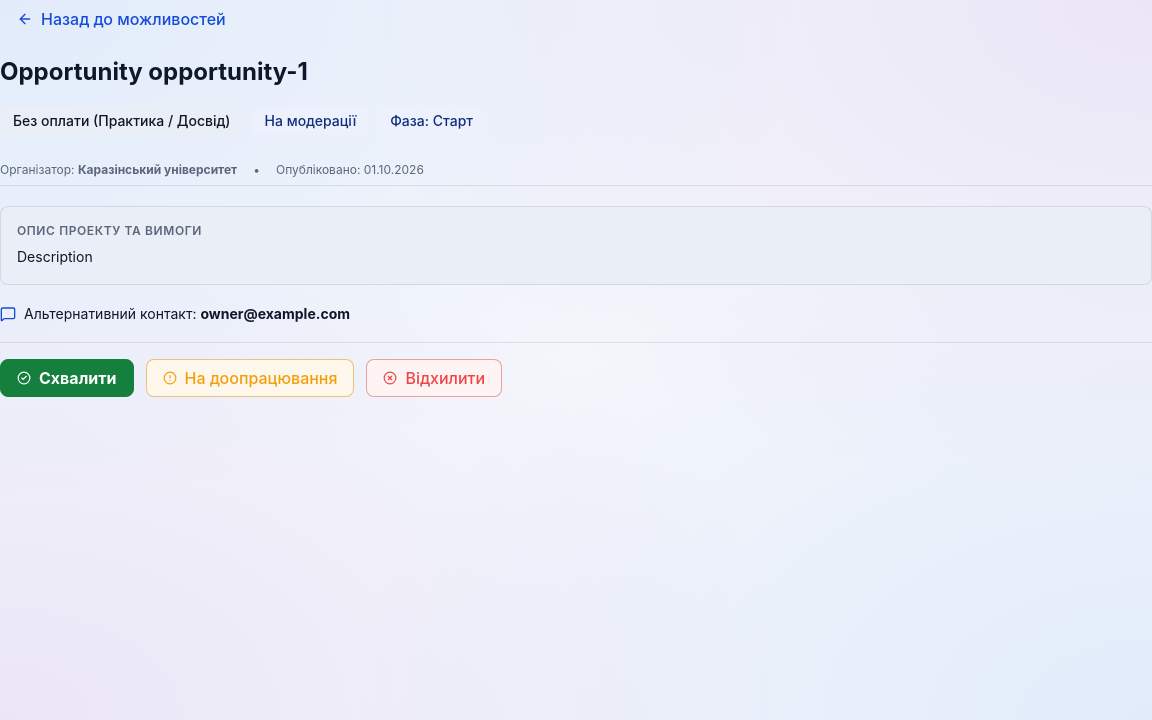
opportunity detail moderation › should submit REJECT with the moderator comment
This screenshot has width=1152, height=720.
Click the button "Відхилити".
click(434, 378)  # box [366,359,502,397]
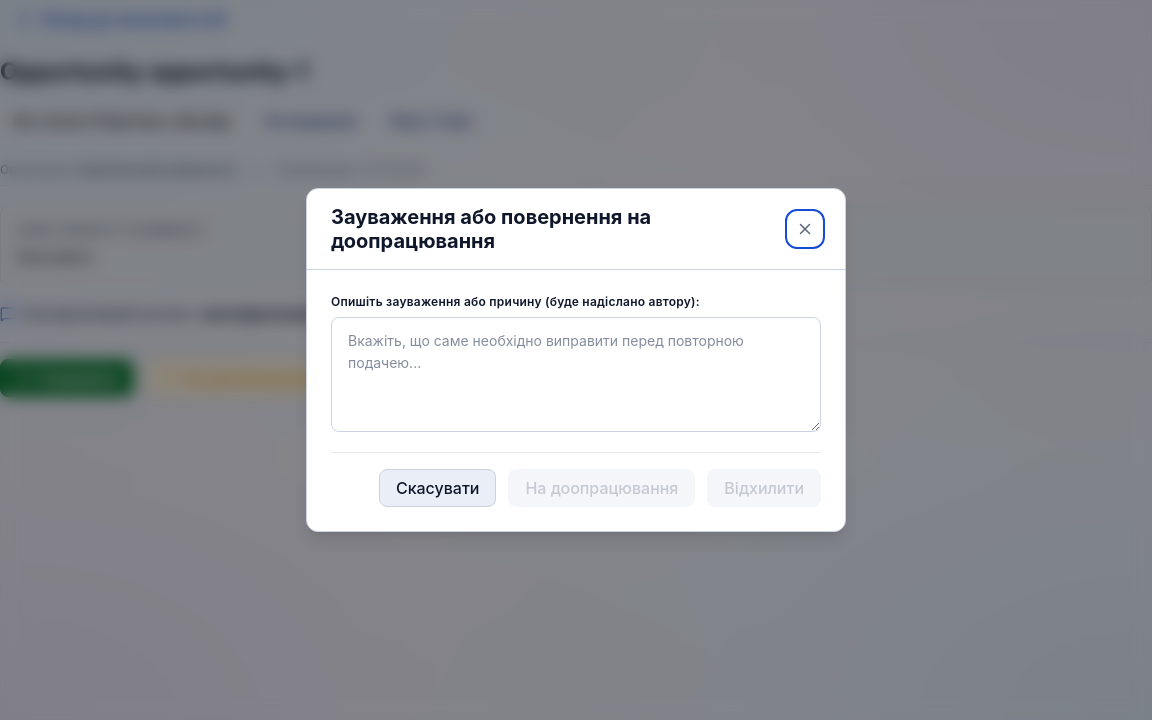
Type "Please clarify the requirements" into the text box.
click(576, 374); type("Please clarify the requirements")  # box [331,317,821,432]
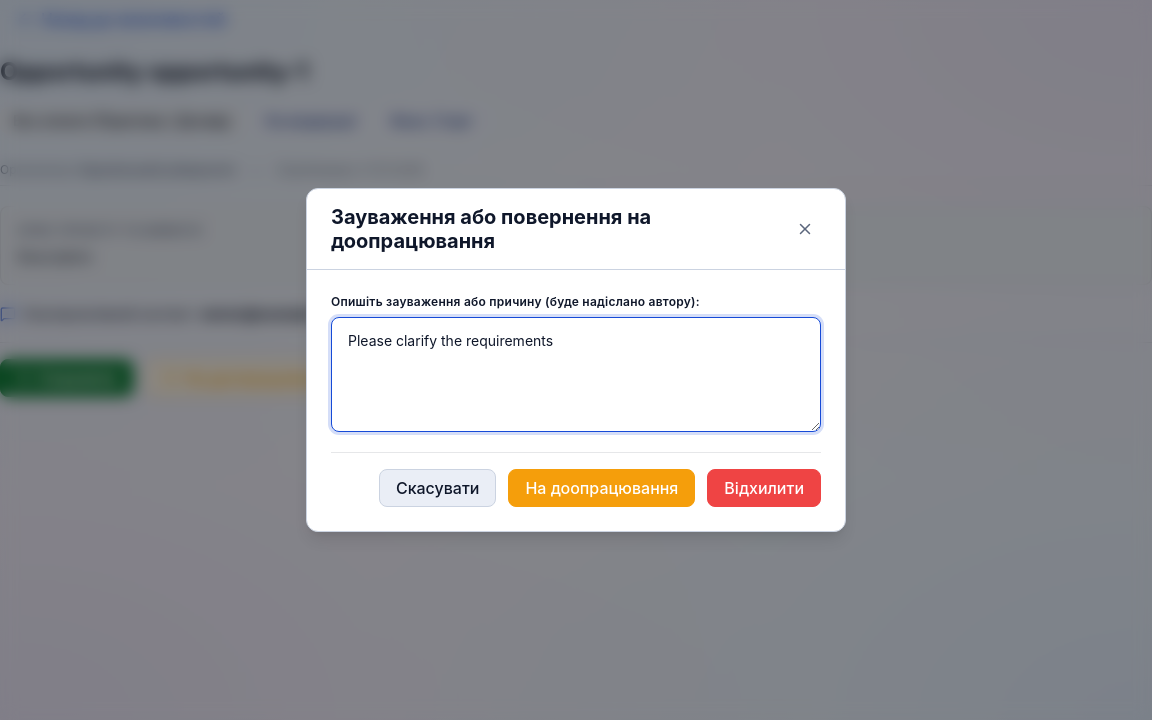
Click the button "Відхилити".
click(764, 488)  # box [707,469,821,507]
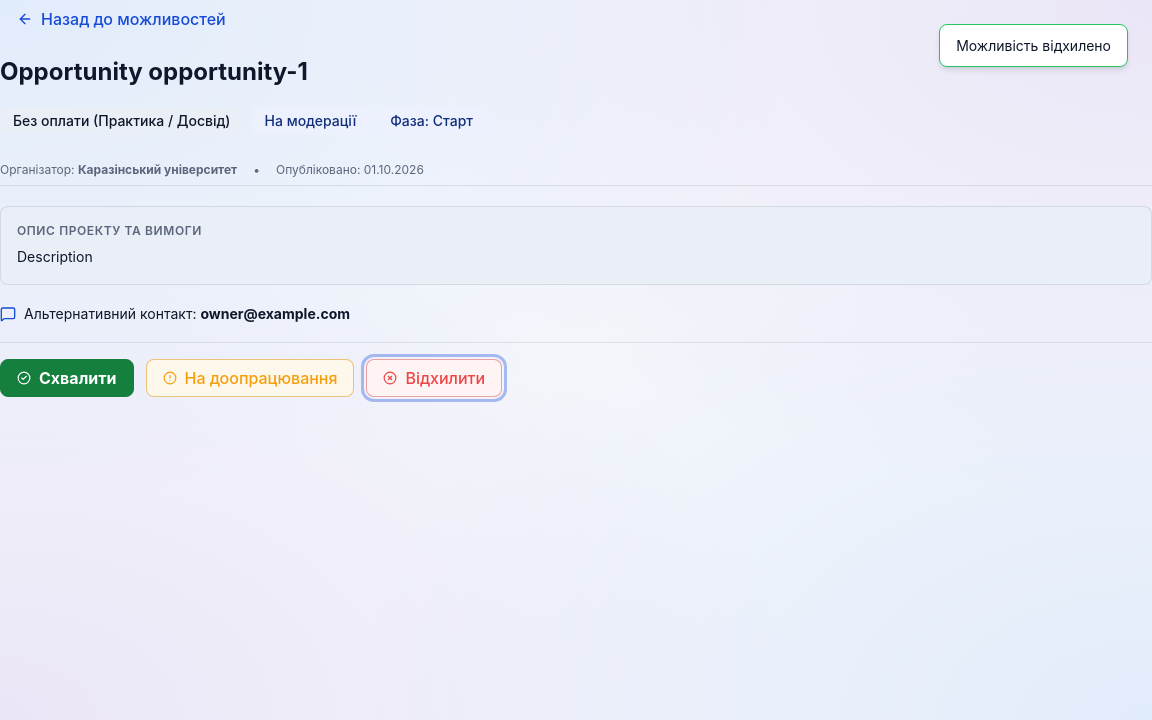
Expected: the dialog is gone
